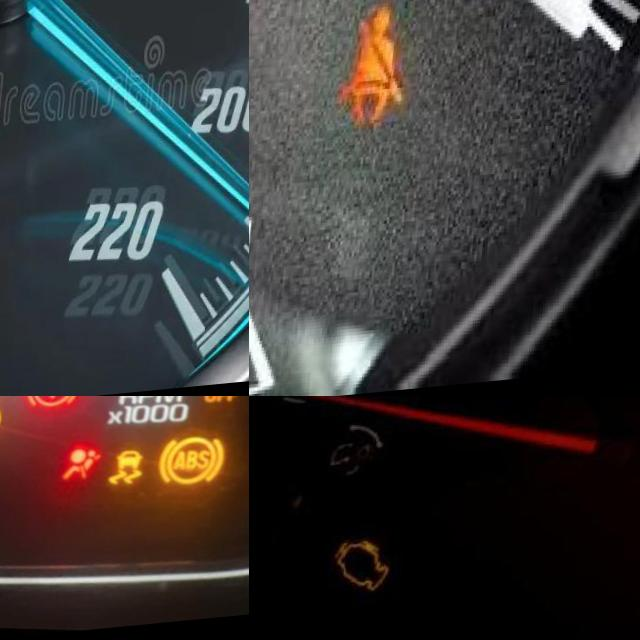Seat Belt: (343, 12, 415, 131)
